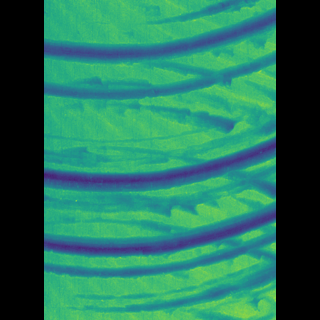Loch: (73, 132, 244, 320), (76, 4, 244, 71), (75, 45, 244, 104), (134, 98, 219, 138), (149, 0, 234, 30)
